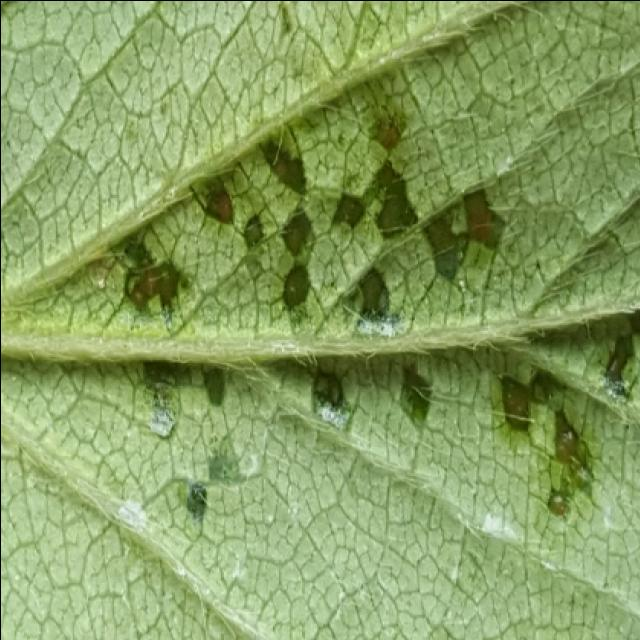Angular Leafspot: (78, 101, 638, 533)
